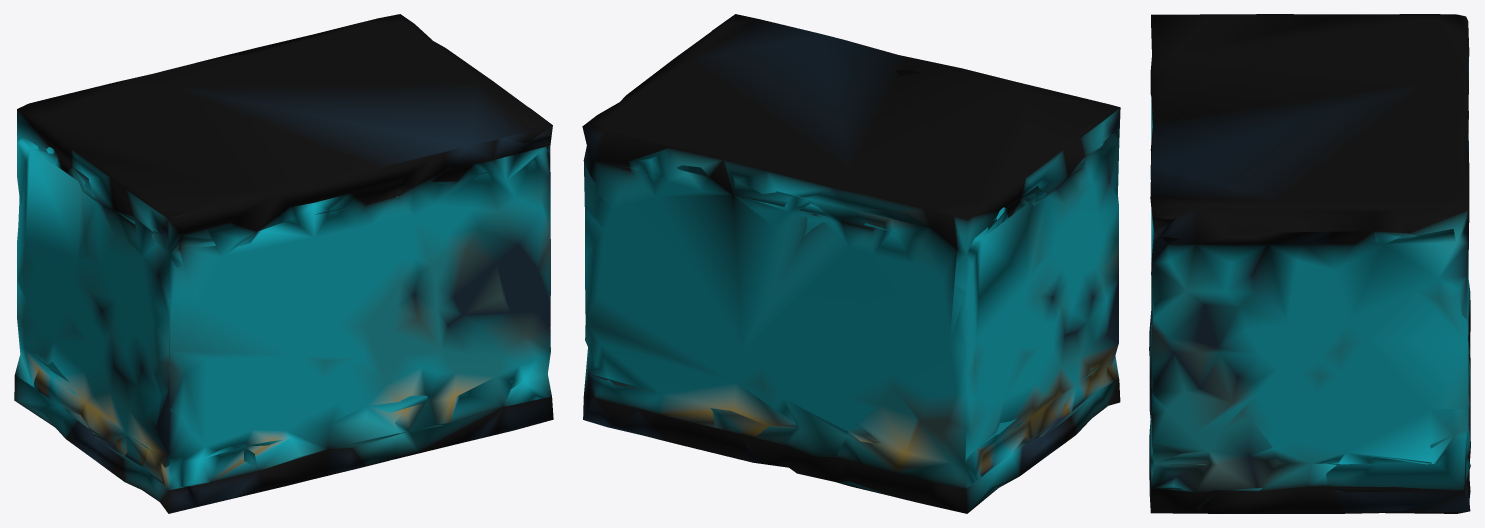
File: gen3d-fish-tank-lod0.glb
3 views of the same model, side by side, from view 1: azimuth 30°, elevation 25°; view 2: azimuth 150°, elevation 25°; view 3: azimuth 270°, elevation 25° (orthographic). The views are drawn at different scales.
Parts seen in each view (by area): view 1: part_0; view 2: part_0; view 3: part_0.
Boxes of the visible parts, x1,y1,x2,y2 form: part_0: (14,14,553,513); part_0: (582,14,1120,513); part_0: (1149,14,1470,513).
Size of the model in its own units: 1.37 by 1 by 0.9505.
